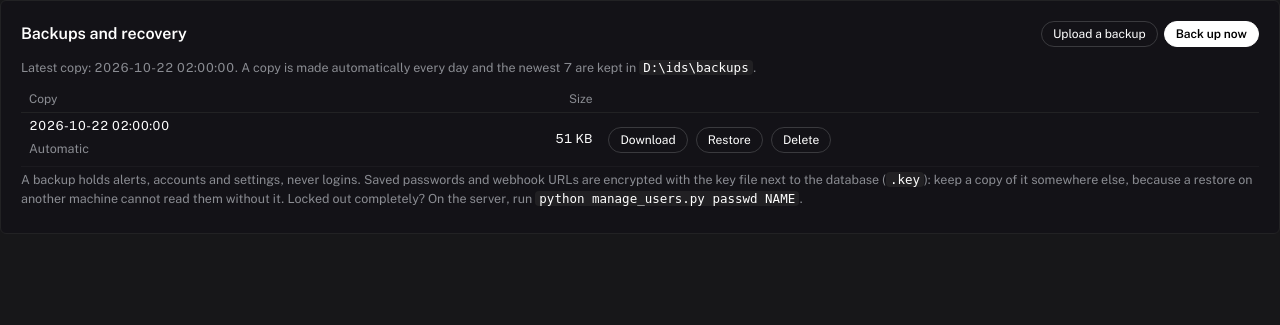
Test case: backups and recovery › makes a copy now and shows the list again
What coordinates should you click on to do the following:
click the button "Back up now"
I would click on:
 (1211, 34)
Its box is 1164,21 -> 1259,47.
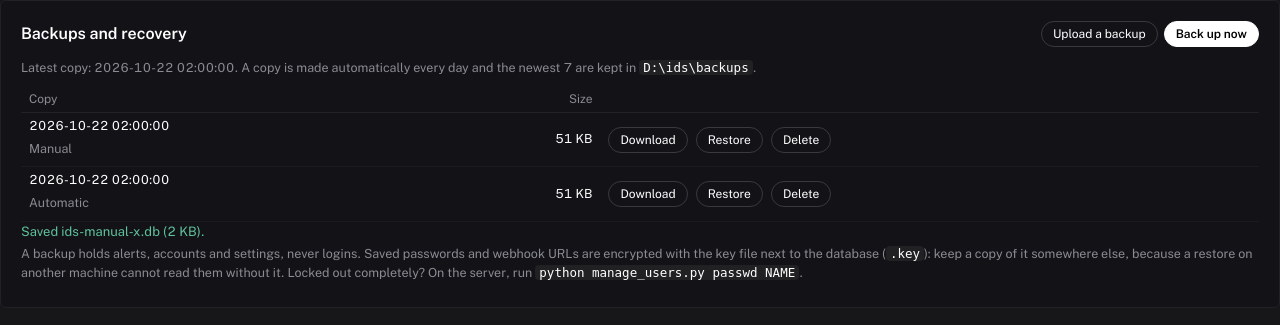
Expected: the text "Saved ids-manual-x.db (2 KB)." is shown, 21,224 -> 205,239
Expected: the text "Manual" is shown, 29,140 -> 72,156
